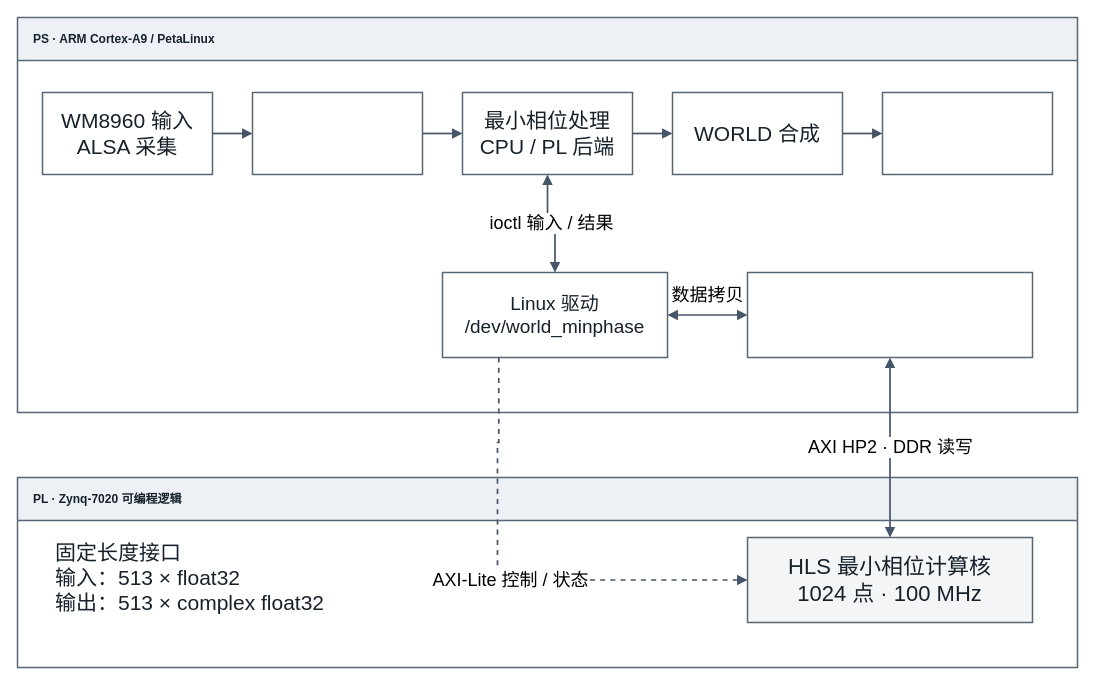
The diagram is 1096 pixels wide and 686 high, and some of its shapes have lost their labels. Each missing label, with the centre of its shape:
"ALSA 播放 WM8960 输出" goes at pixel 967 133.
"PS DDR coherent-DMA 缓冲区" goes at pixel 889 314.
"WORLD 分析 与频谱准备" goes at pixel 337 133.
